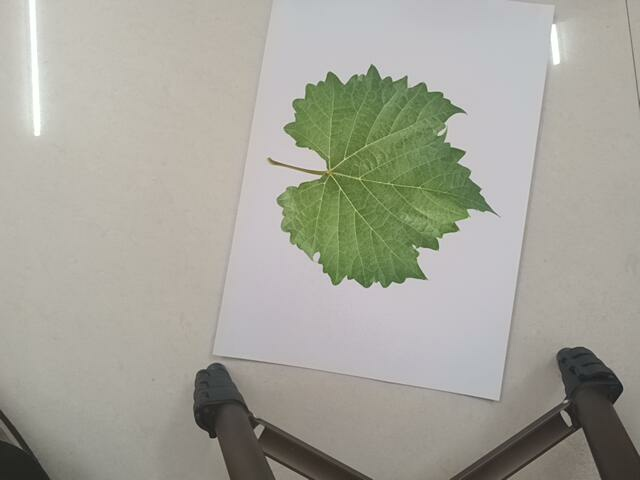Grape_Healthy: (267, 61, 503, 290)
